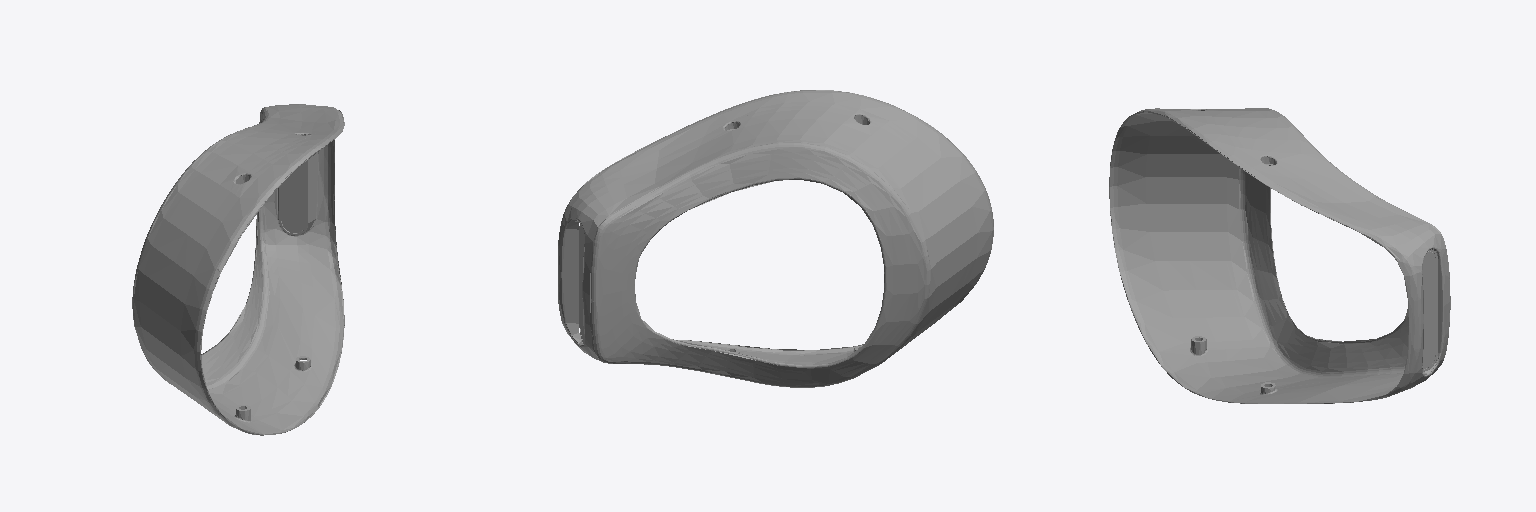
Rendered from head_0.obj.
3 renders of one model, left to right at view 1: azimuth 30°, elevation 25°; view 2: azimuth 150°, elevation 25°; view 3: azimuth 270°, elevation 25°, orthographic.
Size of the model in its own units: 0.207 by 0.1818 by 0.2139.